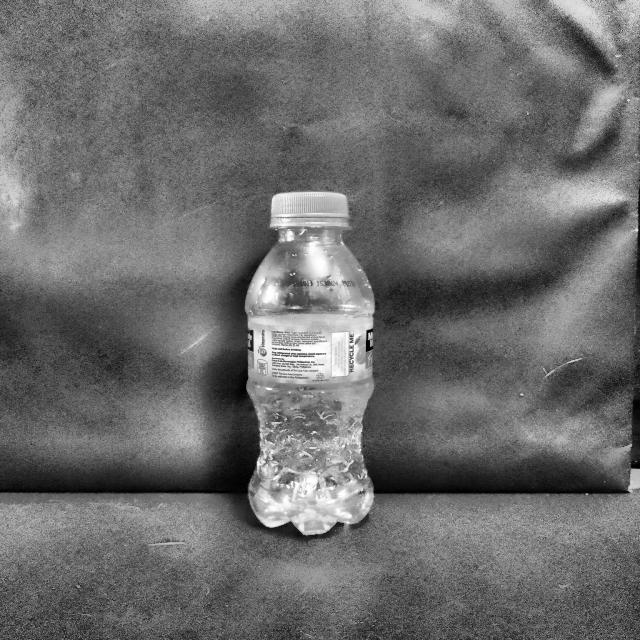Plastic-Bottle: (243, 189, 379, 539)
